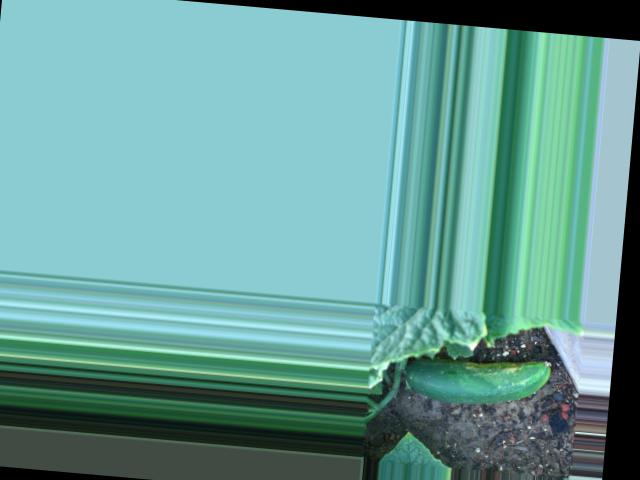cucumber: (404, 348, 552, 410)
